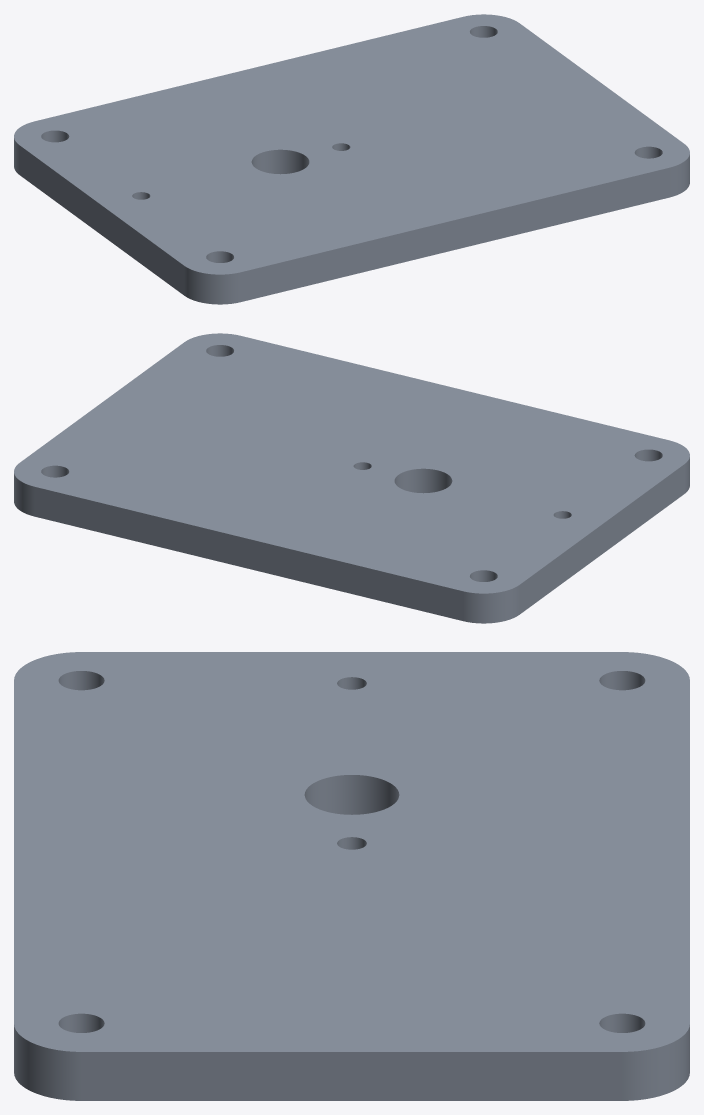
File: step-2-preview-1.glb
The picture shows the model from 3 angles, top to bottom: view 1: azimuth 30°, elevation 25°; view 2: azimuth 150°, elevation 25°; view 3: azimuth 270°, elevation 25°; orthographic projection. The views are drawn at different scales.
Visible parts, largest first — view 1: preview_4, preview_5, preview_0, preview_1, preview_13, preview_7; view 2: preview_4, preview_6, preview_0, preview_2, preview_13, preview_8; view 3: preview_4, preview_9, preview_7, preview_8, preview_13, preview_10, preview_11, preview_15, preview_16.
Part boxes in pixels (x1,y1,x2,y2): preview_4: (14,14,689,274); preview_5: (240,168,669,301); preview_0: (19,145,184,295); preview_1: (184,266,240,304); preview_13: (251,149,309,174); preview_7: (669,154,689,197); preview_4: (14,333,689,593); preview_6: (34,487,463,620); preview_0: (519,464,684,614); preview_2: (463,585,519,623); preview_13: (394,468,452,493); preview_8: (14,473,34,516); preview_4: (14,652,689,1051); preview_9: (81,1052,622,1100); preview_7: (14,1025,81,1100); preview_8: (622,1025,689,1100); preview_13: (304,775,399,814); preview_10: (58,671,104,690); preview_11: (58,1013,104,1032); preview_15: (599,671,645,690); preview_16: (599,1013,645,1032).
Bounding box in the file's own units: 0.07 × 0.004 × 0.05.
